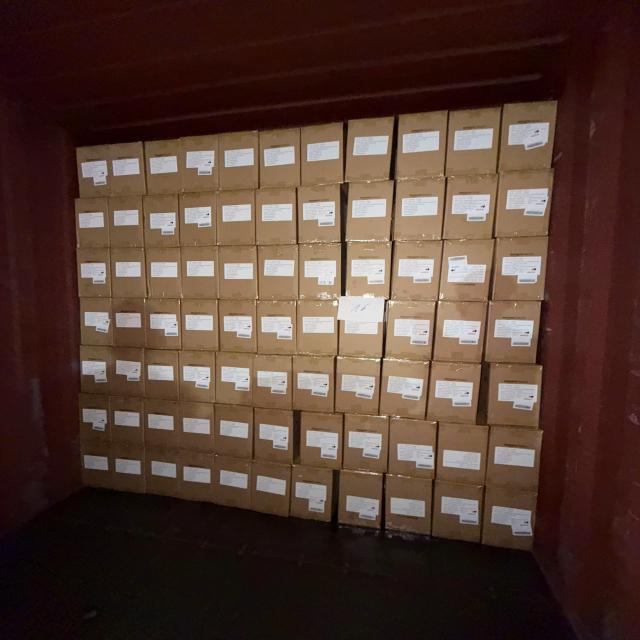Carton: (498, 170, 556, 240), (502, 103, 559, 173), (485, 364, 543, 431), (445, 108, 499, 178), (492, 237, 548, 303), (482, 490, 536, 558), (486, 300, 542, 364), (442, 175, 496, 241), (487, 428, 542, 492), (396, 111, 447, 179), (434, 300, 488, 364), (426, 362, 480, 426), (439, 241, 492, 305), (395, 180, 447, 244), (432, 479, 482, 545), (439, 425, 490, 488), (389, 418, 438, 483), (344, 118, 393, 182), (381, 474, 431, 536), (383, 302, 433, 364), (392, 241, 442, 303), (345, 183, 394, 245), (379, 358, 427, 419), (338, 299, 385, 360), (343, 241, 390, 301), (343, 415, 388, 477), (336, 355, 382, 415), (337, 469, 383, 529), (298, 413, 343, 473), (300, 123, 343, 185), (301, 184, 345, 244), (288, 465, 332, 525), (220, 128, 260, 192), (299, 244, 343, 302), (180, 133, 221, 194), (256, 187, 298, 245), (212, 452, 254, 510), (143, 137, 184, 196), (260, 129, 301, 188), (107, 140, 149, 197), (292, 354, 333, 412), (255, 408, 296, 466), (260, 246, 301, 303), (252, 462, 292, 520), (257, 302, 298, 358), (296, 302, 336, 358), (176, 448, 216, 504), (214, 403, 253, 460), (255, 355, 294, 411), (74, 143, 112, 200), (108, 441, 148, 495), (144, 443, 181, 501), (176, 401, 217, 453), (219, 299, 257, 354), (217, 189, 254, 245), (218, 247, 255, 303), (215, 350, 253, 404), (182, 298, 220, 352), (178, 349, 215, 404), (181, 248, 218, 302), (111, 345, 148, 399), (182, 192, 218, 247), (143, 195, 180, 248), (76, 440, 113, 492), (146, 299, 183, 350), (111, 250, 148, 300), (78, 345, 114, 396), (76, 196, 110, 249), (148, 249, 182, 302), (143, 398, 177, 451), (112, 196, 146, 248), (77, 249, 111, 300), (144, 351, 178, 402), (112, 396, 146, 447), (78, 299, 111, 350), (115, 300, 146, 352), (77, 394, 108, 443)
